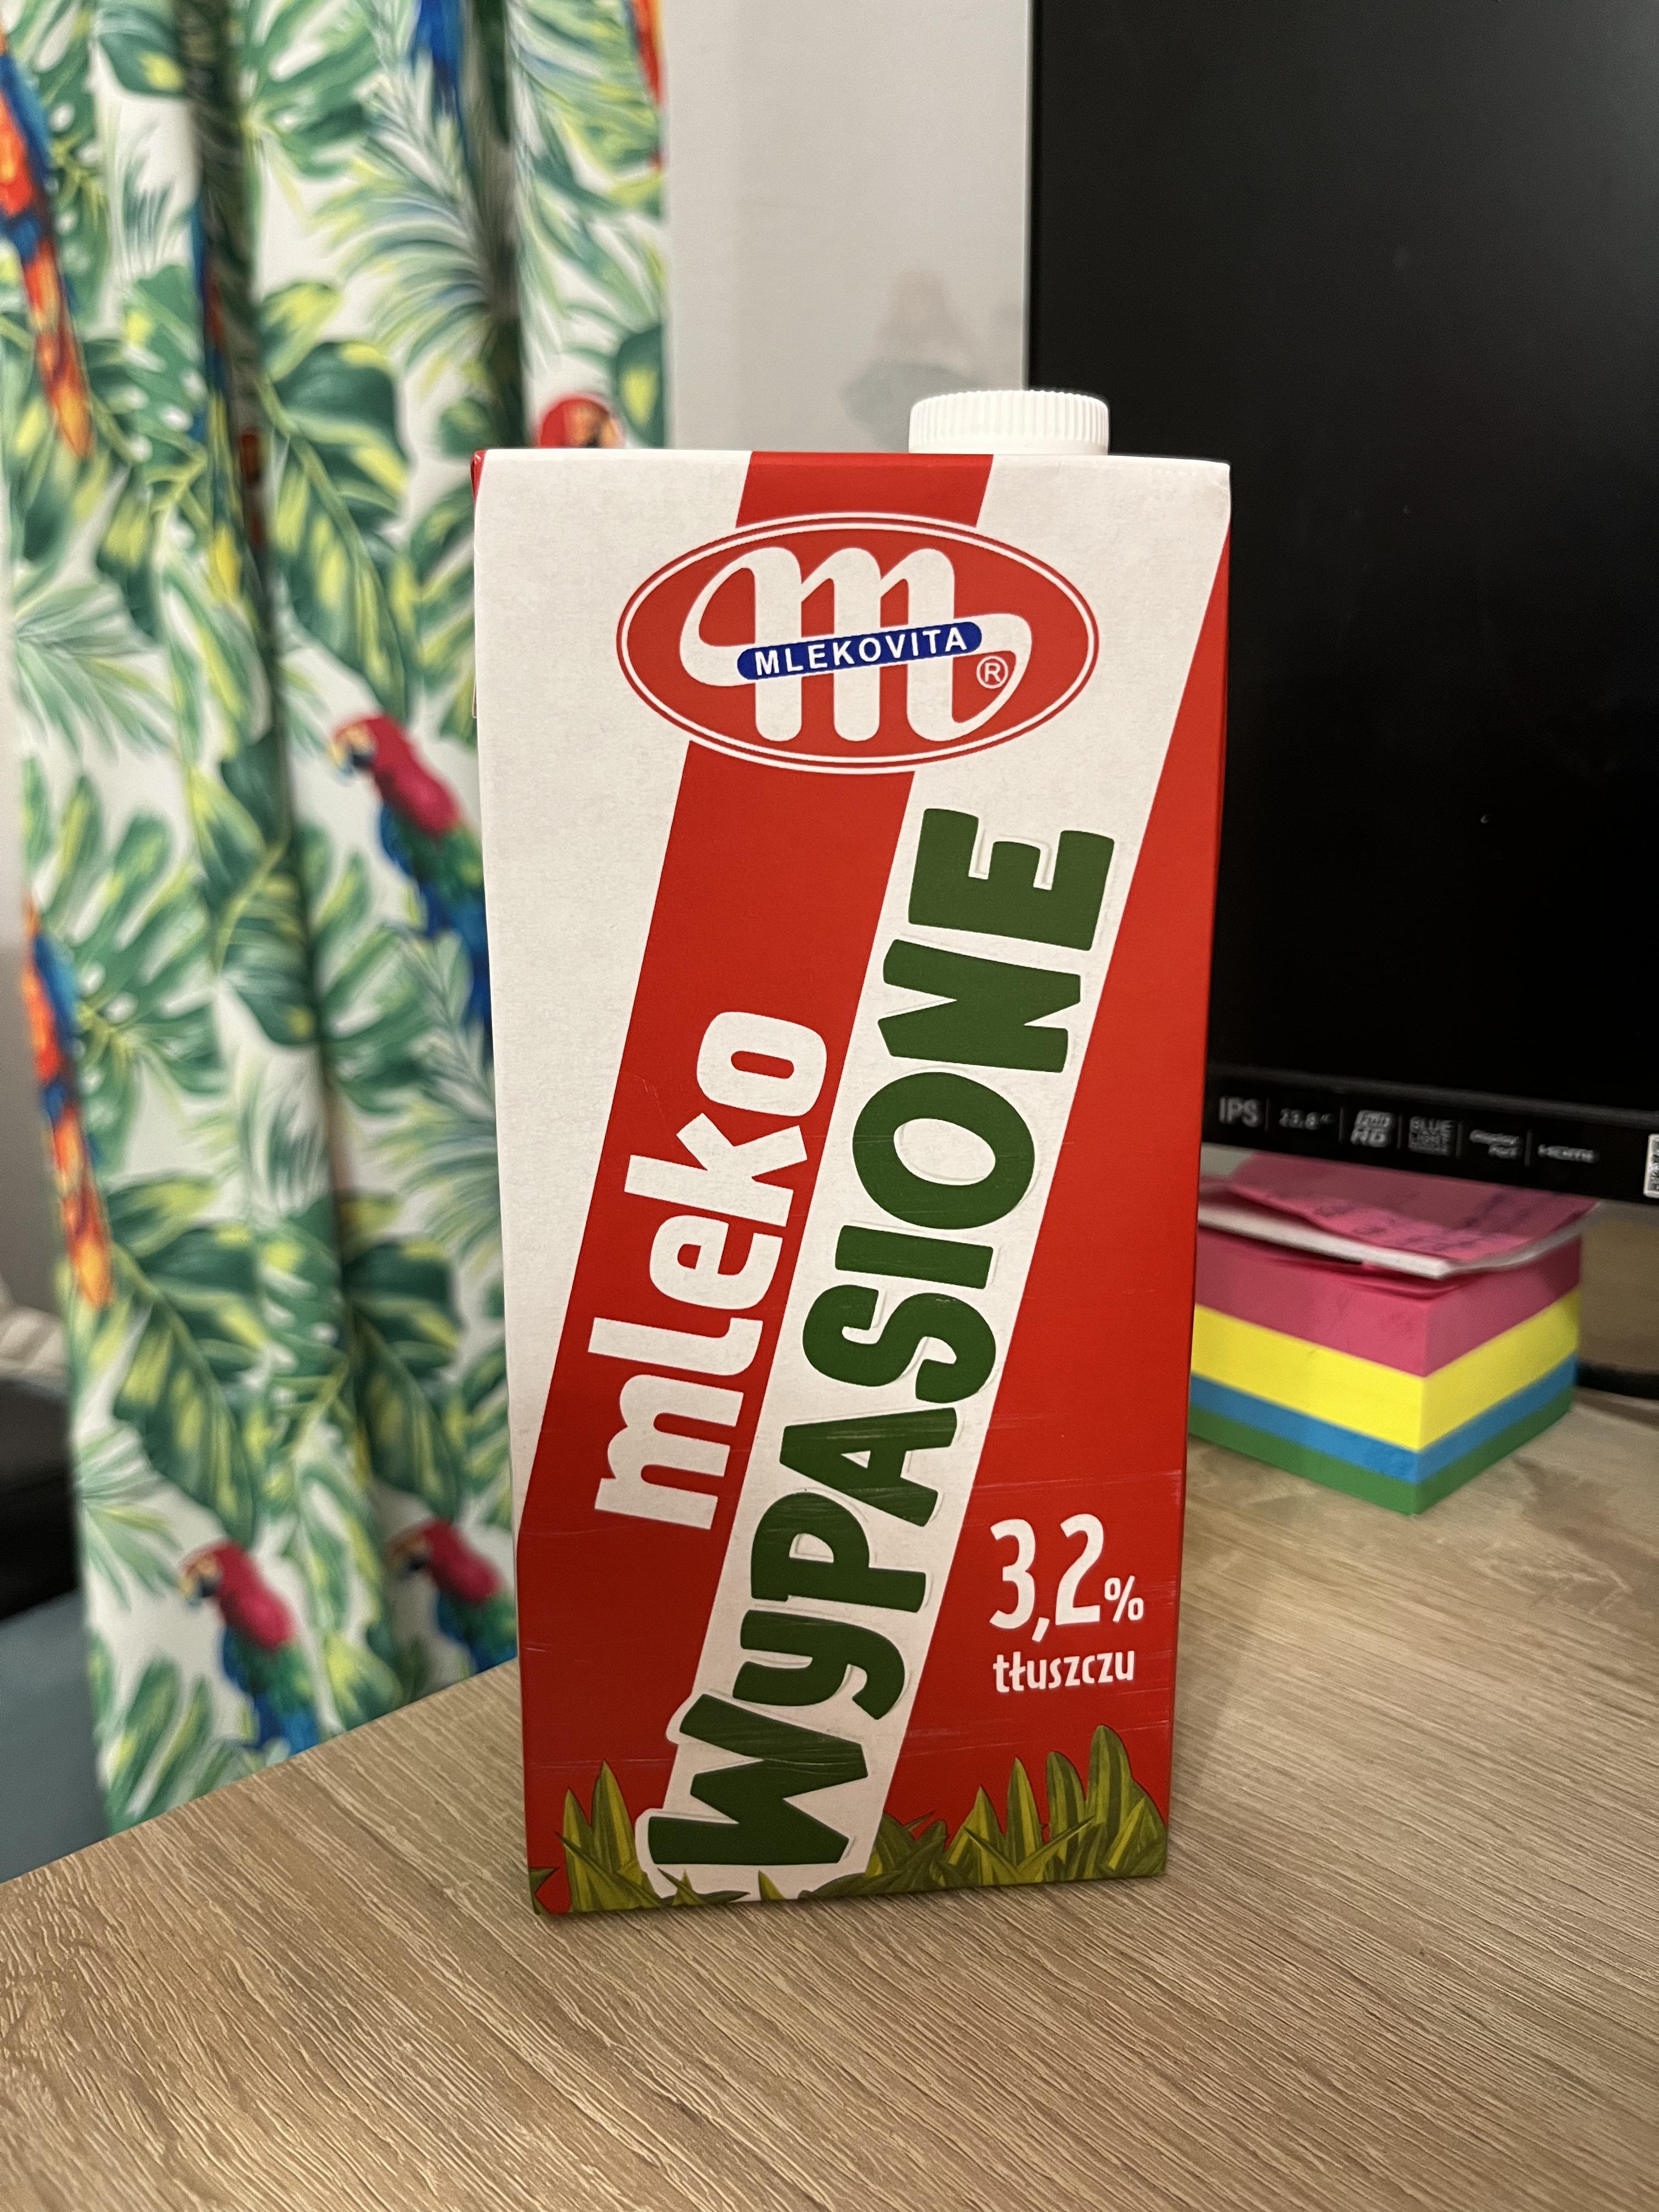Milk: (479, 439, 1194, 1935)
